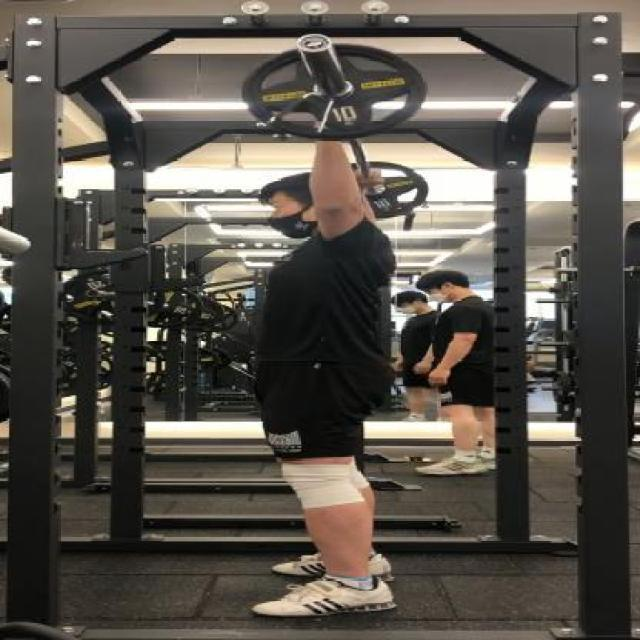barbell: (216, 30, 462, 147)
